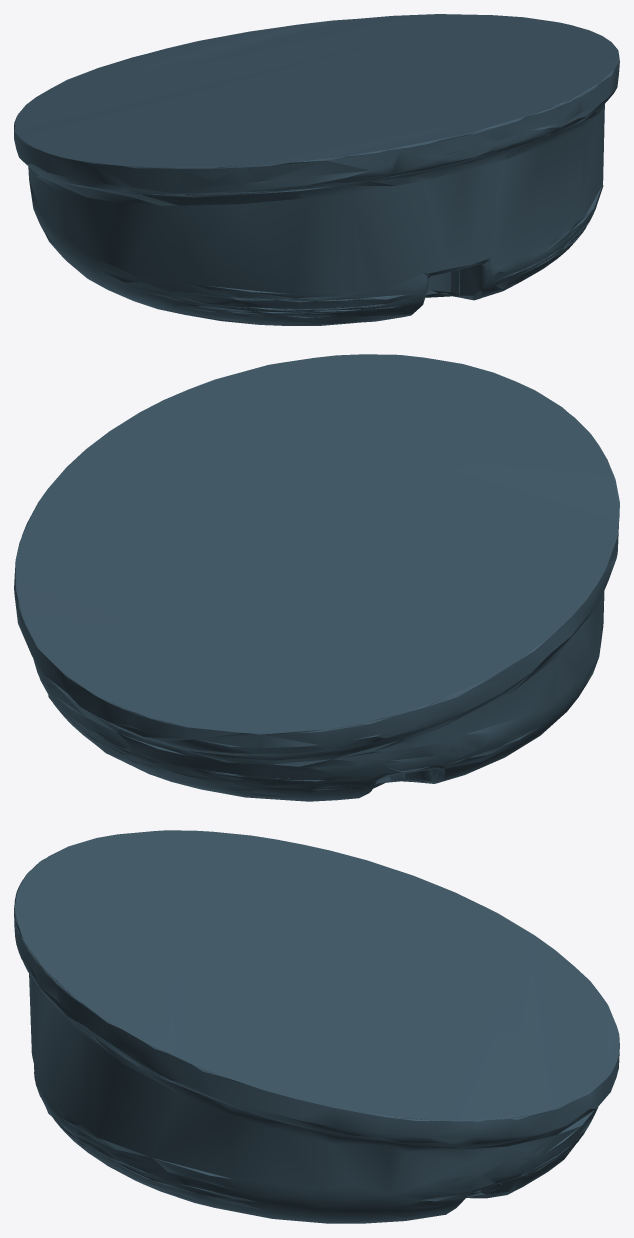
The model's file is wrist2_1.obj.
3 views of the same model, one above another, from view 1: azimuth 30°, elevation 25°; view 2: azimuth 150°, elevation 25°; view 3: azimuth 270°, elevation 25° (orthographic).
Bounding box in the file's own units: 0.0644 × 0.0273 × 0.0642.
